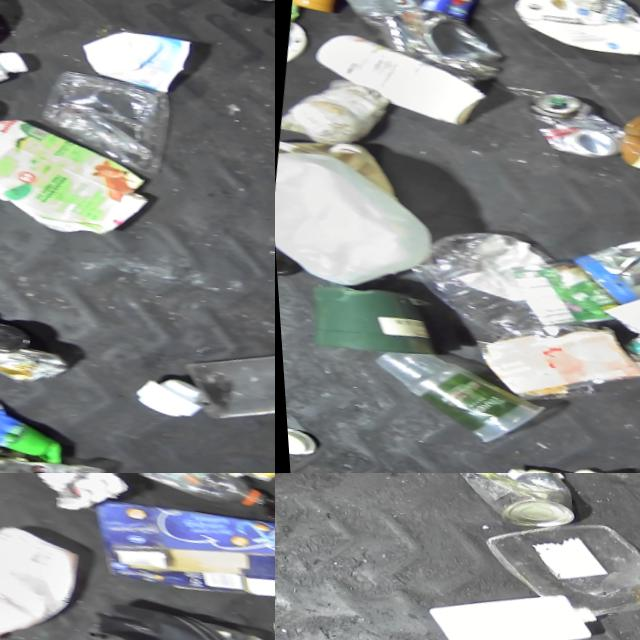can: (514, 86, 630, 165), (557, 211, 640, 321), (445, 473, 576, 533), (518, 258, 625, 330), (608, 303, 640, 389), (280, 0, 316, 54)
milk_jug: (275, 145, 440, 300), (415, 568, 600, 640), (484, 445, 640, 473)
plastic_bottle: (121, 473, 275, 517)
